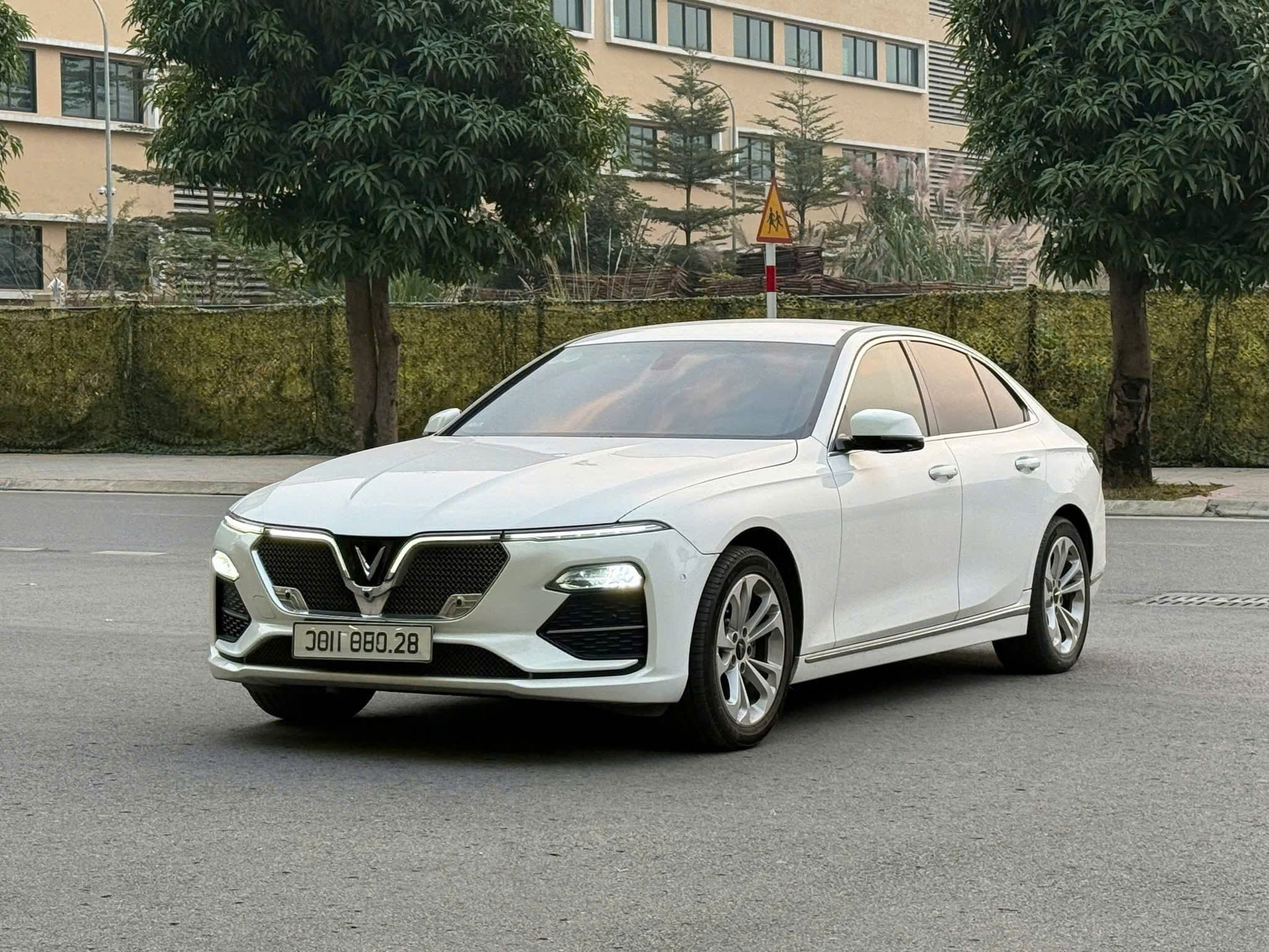Bien-so: (248, 569, 395, 621)
